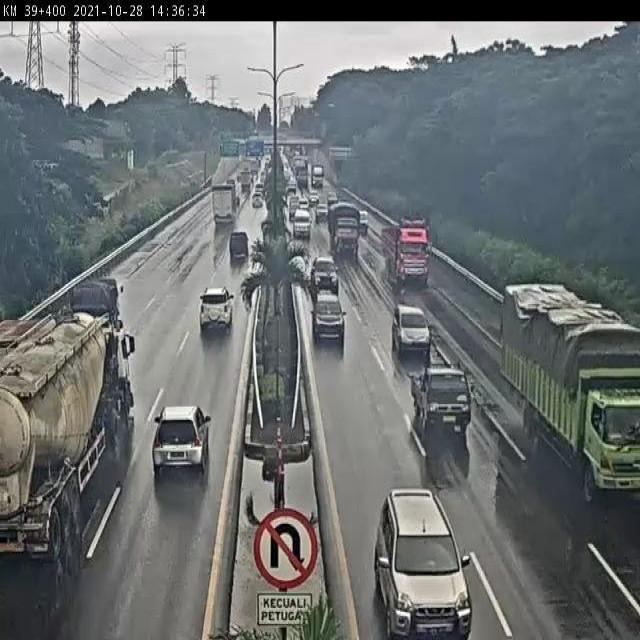truck-m-: (501, 290, 639, 502), (380, 219, 429, 280), (328, 197, 363, 255)
truck-xl-: (0, 312, 134, 552)
